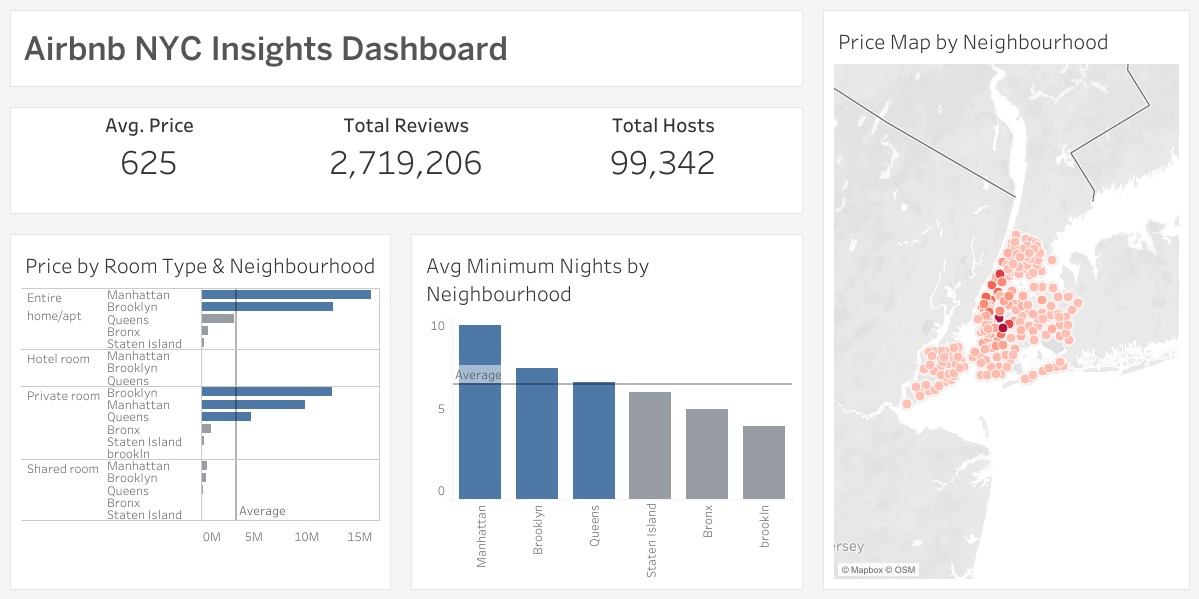

Layout of this report page (visuals, bound fields, positions):
{"tool":"tableau","page":{"name":"Dashboard 1","canvas":[1200,600],"ordinal":0},"visuals":[{"type":"text","box":[0,0,813,97]},{"type":"worksheet","title":"Price Map by Neighbourhood","mark":"Automatic","rows":["Lat"],"cols":["Long"],"box":[813,0,387,600]},{"type":"worksheet","title":"KPIs","mark":"Automatic","box":[0,97,813,127]},{"type":"worksheet","title":"Price by Room Type & Neighbourhood","mark":"Automatic","rows":["Room Type","Neighbourhood Group"],"cols":["Price"],"box":[0,224,401,375.9]},{"type":"worksheet","title":"Avg Minimum Nights by Neighbourhood","mark":"Automatic","rows":["Minimum Nights"],"cols":["Neighbourhood Group"],"box":[401,224,412,375.9]}]}

Visuals, with their boxes in screenshot pixels (x1, y1, x2, y2), scaled from the page's 1200x600 canvas onto the 1199x599 screenshot:
text: x1=0 y1=0 x2=812 y2=97
"Price Map by Neighbourhood" worksheet: x1=812 y1=0 x2=1198 y2=598
"KPIs" worksheet: x1=0 y1=97 x2=812 y2=224
"Price by Room Type & Neighbourhood" worksheet: x1=0 y1=224 x2=401 y2=598
"Avg Minimum Nights by Neighbourhood" worksheet: x1=401 y1=224 x2=812 y2=598
